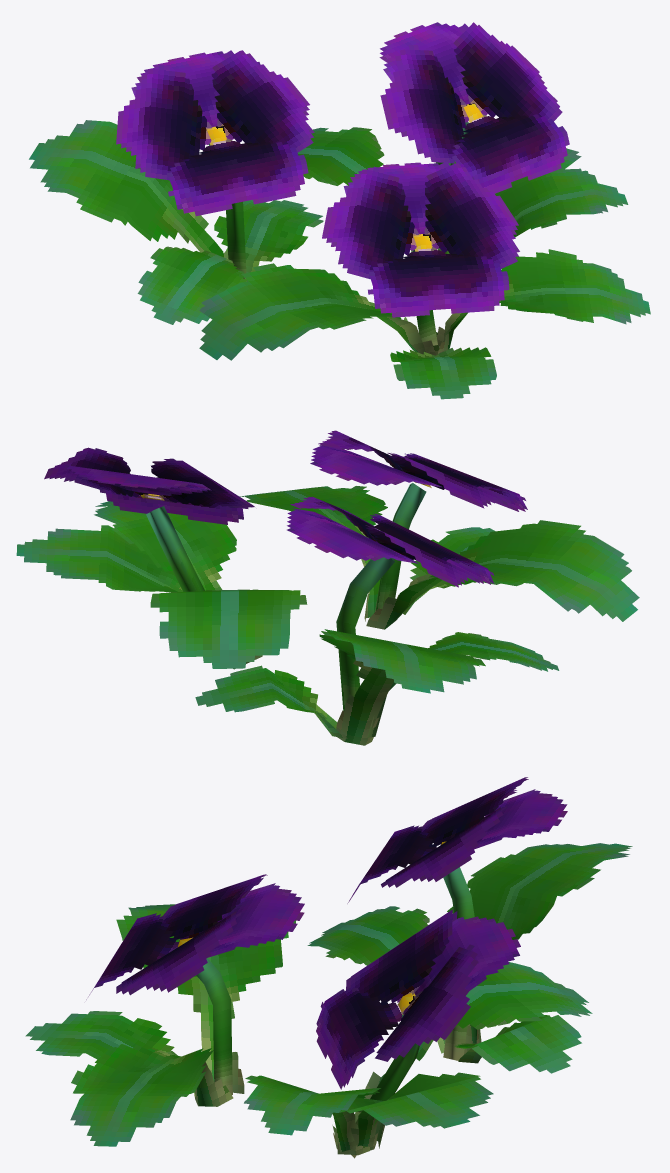
File: purple-pansies.glb
3 views of the same model, one above another, from view 1: azimuth 30°, elevation 25°; view 2: azimuth 150°, elevation 25°; view 3: azimuth 270°, elevation 25° (orthographic). The views are drawn at different scales.
Size of the model in its own units: 10.83 by 4.92 by 10.68.
Materials: 2 (2 with a texture image).
